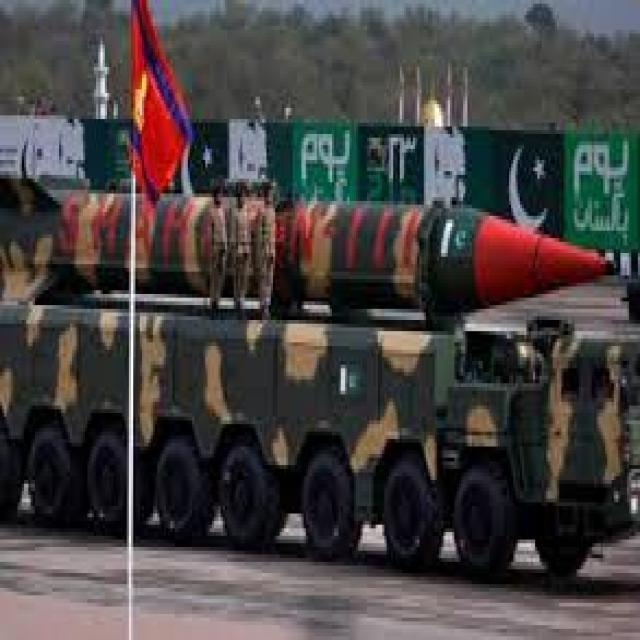missile: (50, 186, 622, 310)
